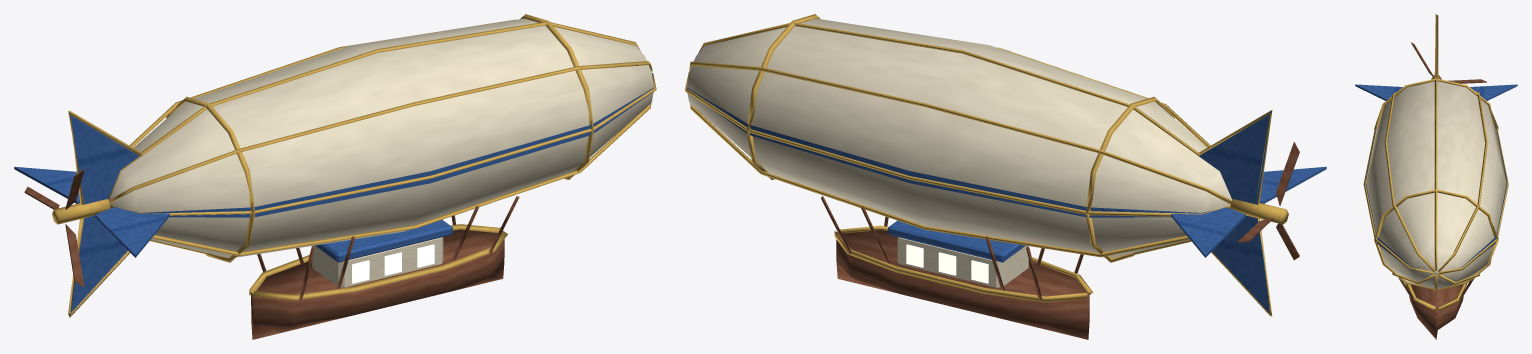
The model's file is fantasy-airship-low.glb.
The picture shows the model from 3 angles, left to right: view 1: azimuth 30°, elevation 25°; view 2: azimuth 150°, elevation 25°; view 3: azimuth 270°, elevation 25°; orthographic projection. The views are drawn at different scales.
Parts seen in each view (by area): view 1: fantasy-airship; view 2: fantasy-airship; view 3: fantasy-airship.
Part boxes in pixels (left/top/right/bottom): fantasy-airship: left=14, top=14, right=656, bottom=339; fantasy-airship: left=685, top=14, right=1326, bottom=339; fantasy-airship: left=1355, top=14, right=1517, bottom=339.
Size of the model in its own units: 8.78 by 3.87 by 3.1.
Materials: 5 (5 with a texture image).
